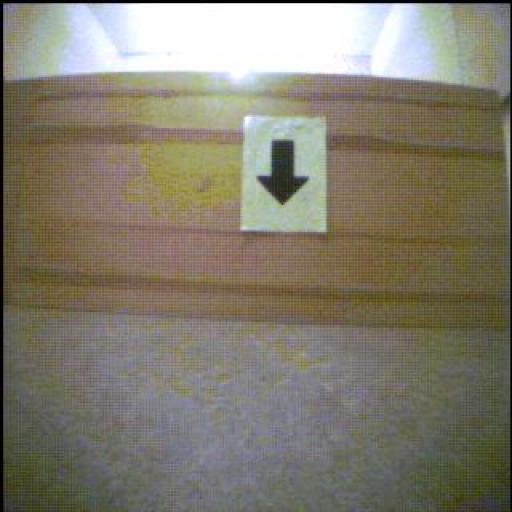Arrow: (259, 140, 310, 206)
